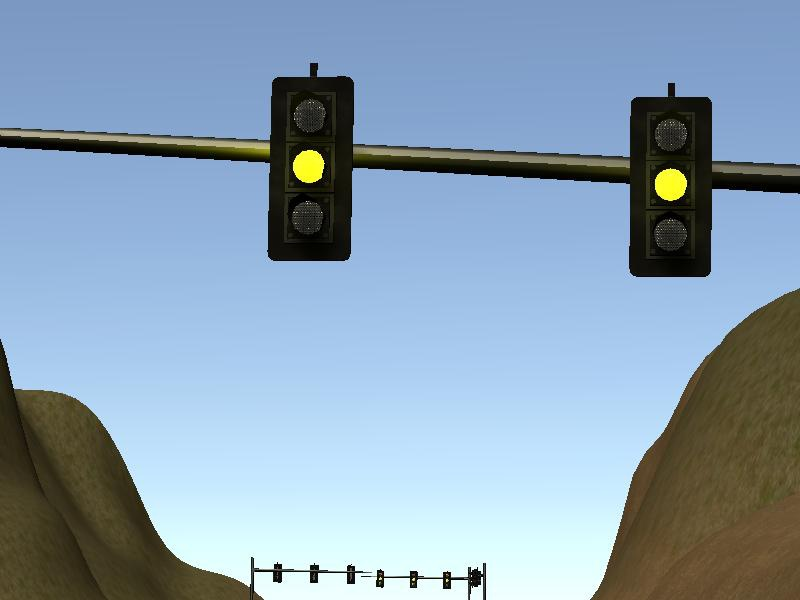Yellow: (268, 76, 353, 260), (627, 95, 712, 279)
